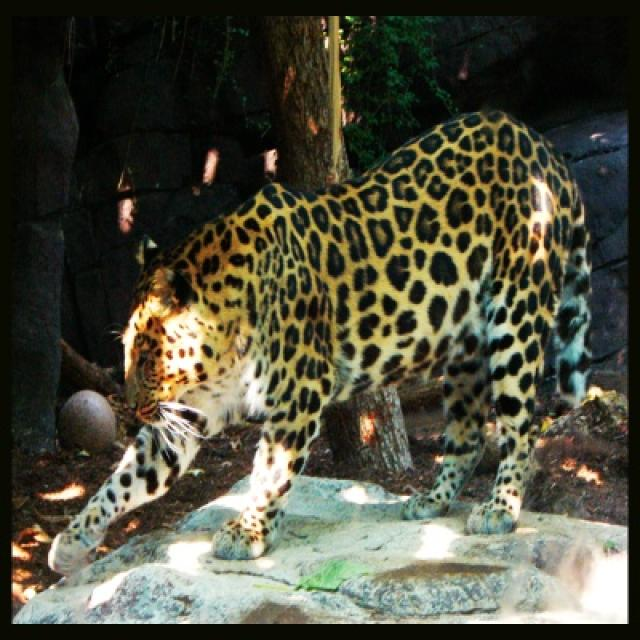Jaguar: (47, 108, 590, 573)
